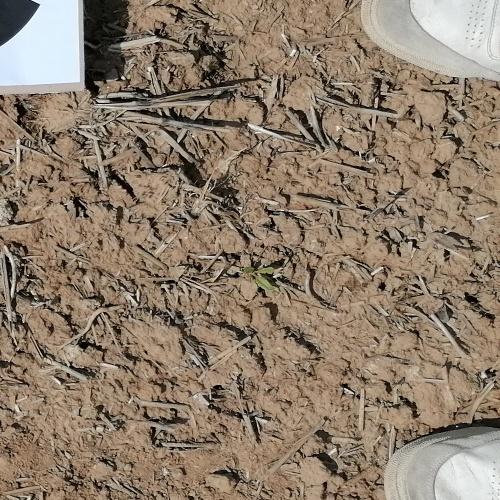beet: (243, 267, 276, 292)
